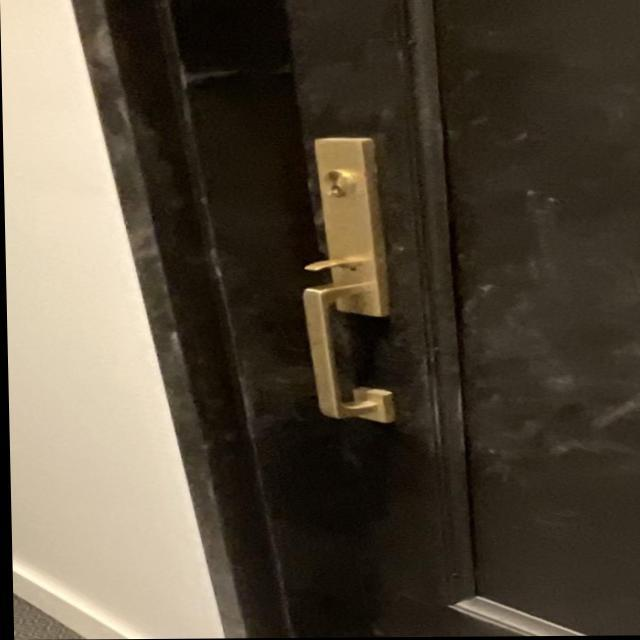door_handle: (282, 276, 415, 430)
